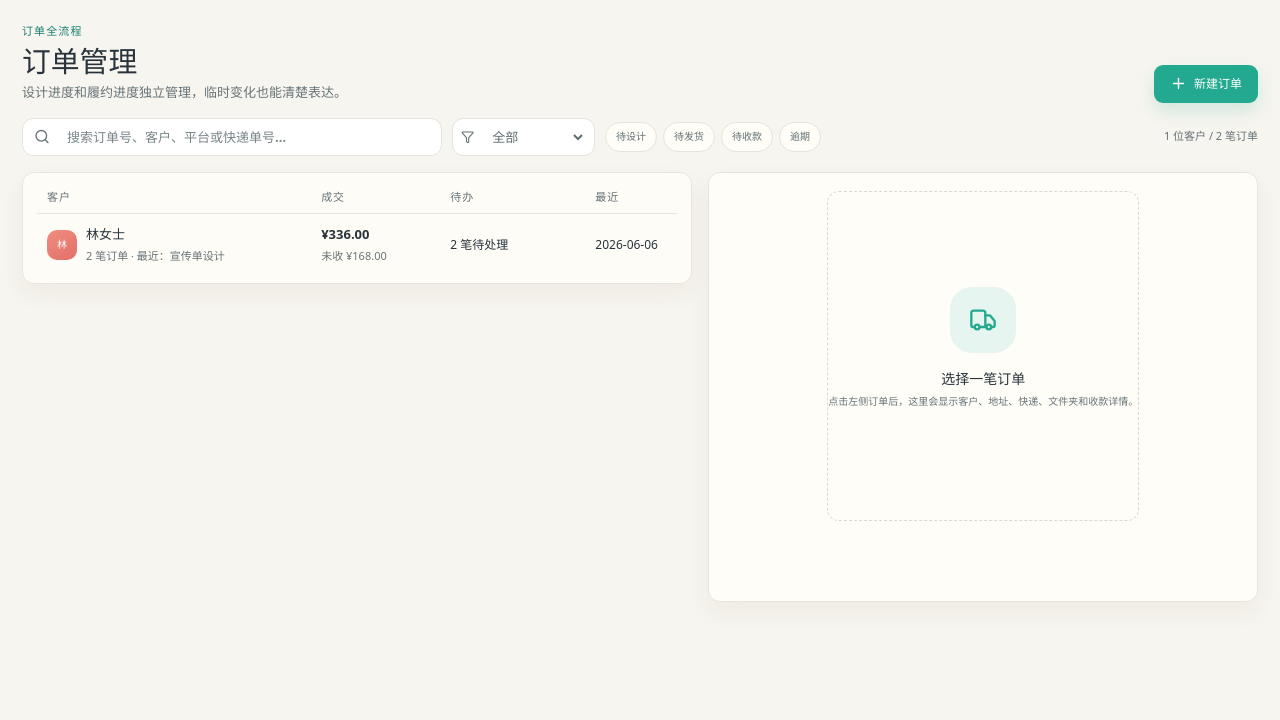
Test case: OrdersPage › shows customers first and opens that customer's orders as the second layer
Expected: the button "宣传单设计 闲鱼 · XY-ADDR-001" is not shown
Click the button "林 林女士 2 笔订单 · 最近：宣传单设计 ¥336.00 未收 ¥168.00 2 笔待处理 2026-06-06": [357, 244] box [37,214,677,275]
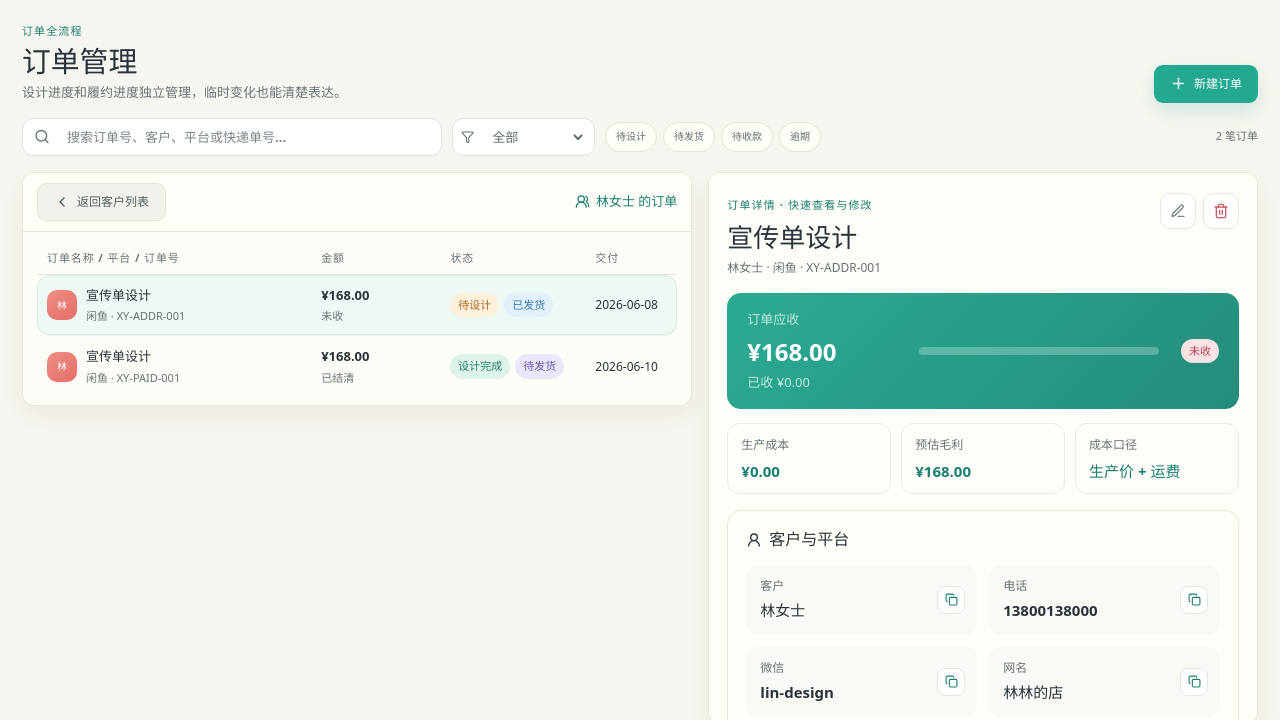
Expected: the text "林女士 的订单" is shown, [575,192,677,211]
Expected: the button "林 宣传单设计 闲鱼 · XY-ADDR-001 ¥168.00 未收 待设计 已发货 2026-06-08" is shown, [37,275,677,336]
Expected: the button "返回客户列表" is shown
Click the button "返回客户列表": [102, 202] box [37,182,166,220]
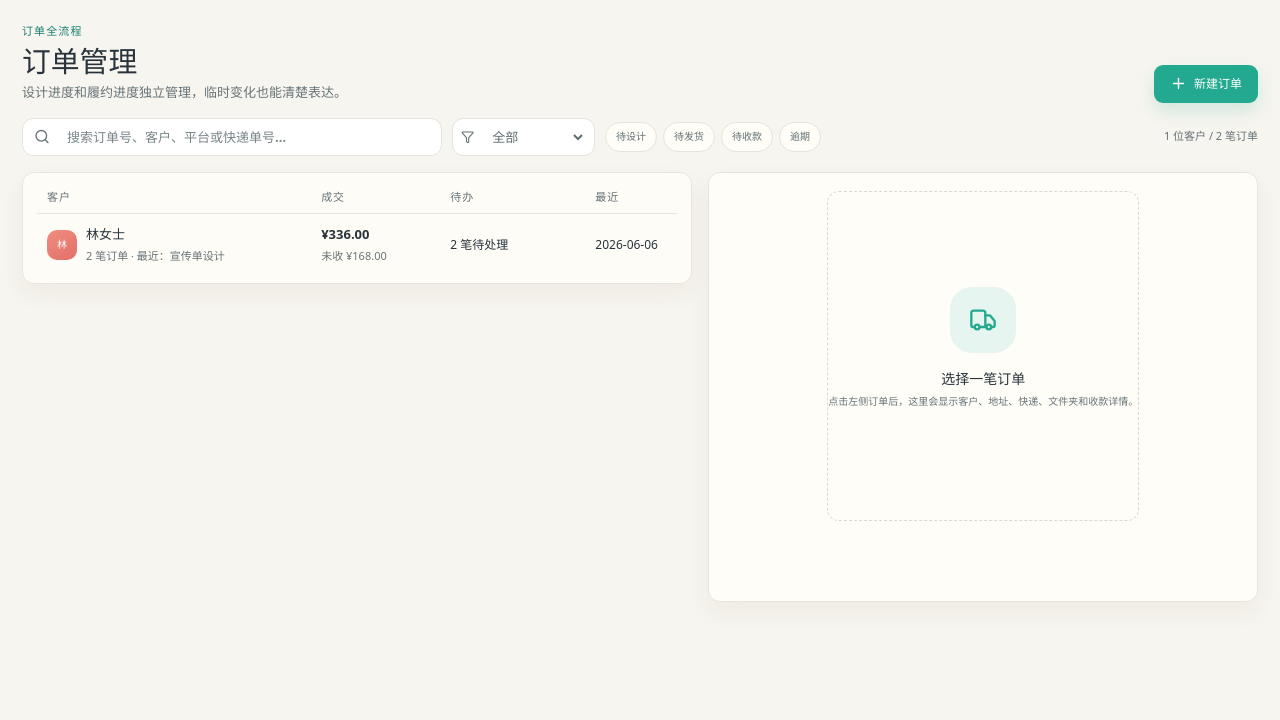
Expected: the button "林 林女士 2 笔订单 · 最近：宣传单设计 ¥336.00 未收 ¥168.00 2 笔待处理 2026-06-06" is shown, [37,214,677,275]
Expected: the button "宣传单设计 闲鱼 · XY-ADDR-001" is gone
